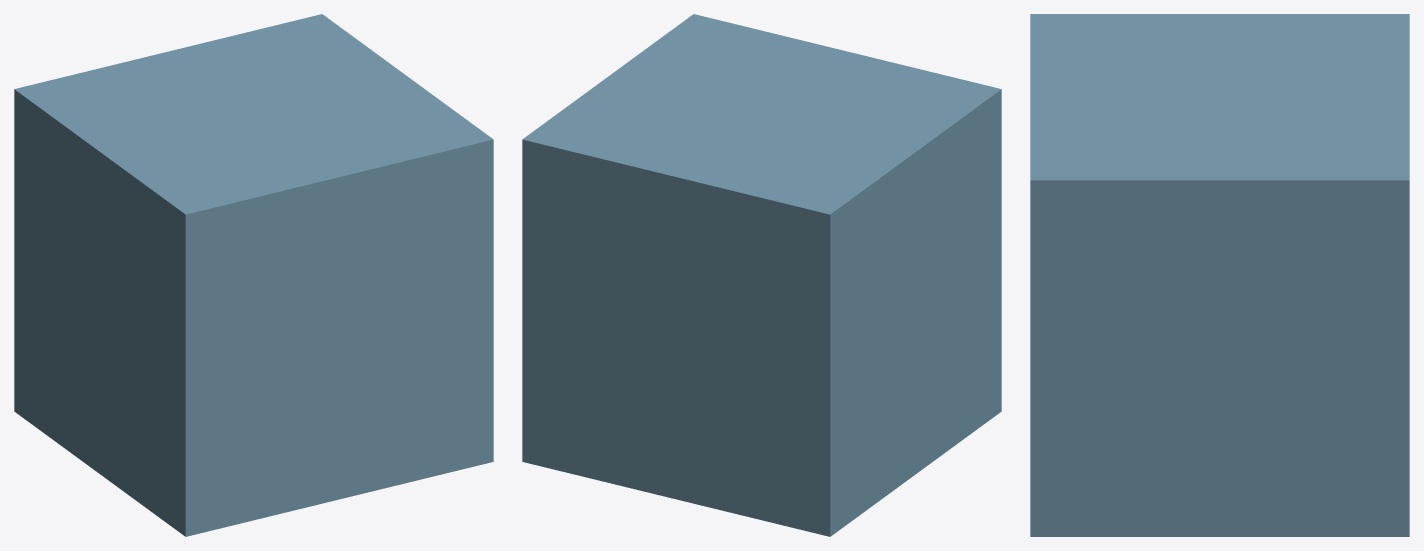
Rendered from hat_light.glb.
The picture shows the model from 3 angles, left to right: view 1: azimuth 30°, elevation 25°; view 2: azimuth 150°, elevation 25°; view 3: azimuth 270°, elevation 25°; orthographic projection. The views are drawn at different scales.
Parts seen in each view (by area): view 1: HeavyHelm_Main; view 2: HeavyHelm_Main; view 3: HeavyHelm_Main.
Part boxes in pixels (x1=…): HeavyHelm_Main: x1=14, y1=14, x2=493, y2=536; HeavyHelm_Main: x1=522, y1=14, x2=1001, y2=536; HeavyHelm_Main: x1=1030, y1=14, x2=1409, y2=536.
Size of the model in its own units: 1.23 by 1.23 by 1.19.
